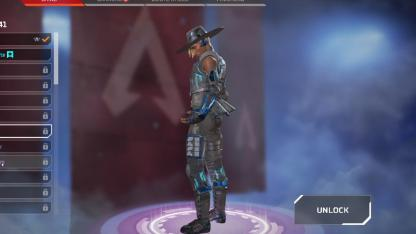Target: (179, 22, 235, 186)
